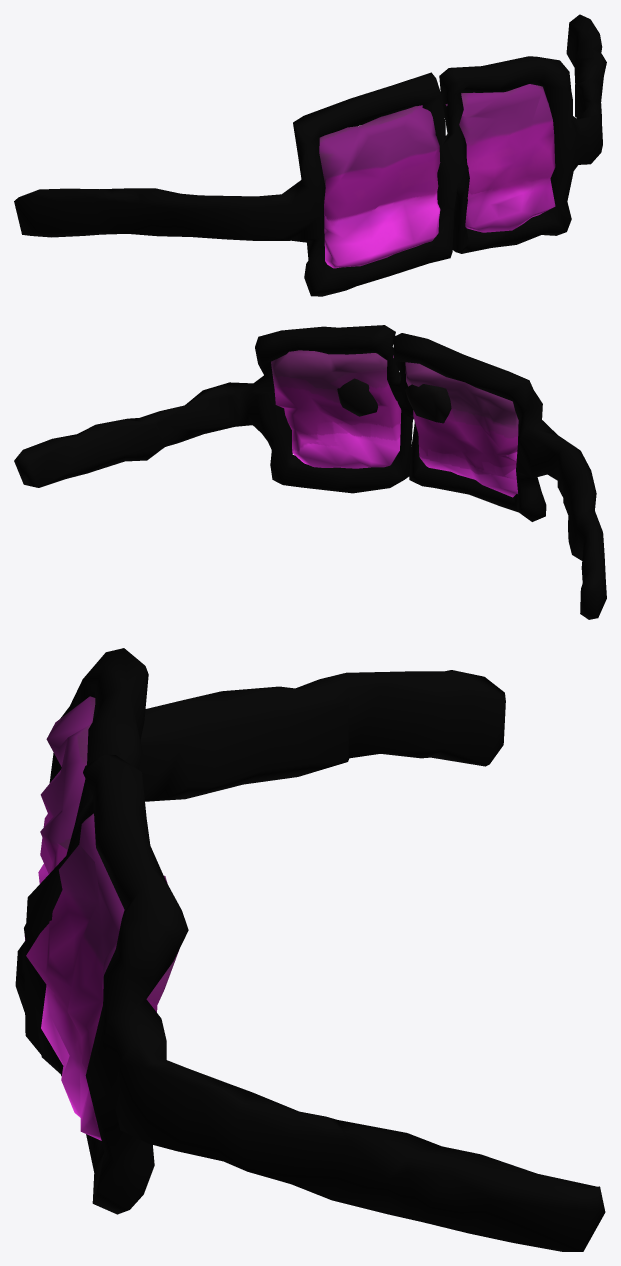
The model's file is purple shades.glb.
3 renders of one model, top to bottom at view 1: azimuth 30°, elevation 25°; view 2: azimuth 150°, elevation 25°; view 3: azimuth 270°, elevation 25°, orthographic. The views are drawn at different scales.
Parts seen in each view (by area): view 1: eyes_normal.001; view 2: eyes_normal.001; view 3: eyes_normal.001.
Boxes of the visible parts, <box> form: eyes_normal.001: <box>14,14,606,296</box>; eyes_normal.001: <box>14,325,606,619</box>; eyes_normal.001: <box>15,648,605,1251</box>.
Bounding box in the file's own units: 0.3251 × 0.1009 × 0.1484.
Materials: 3 (3 with a texture image).
